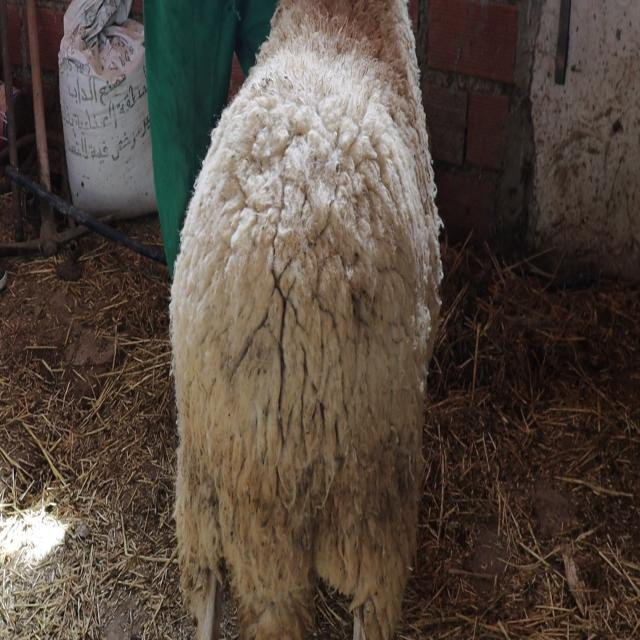Score_4: (170, 0, 442, 639)
